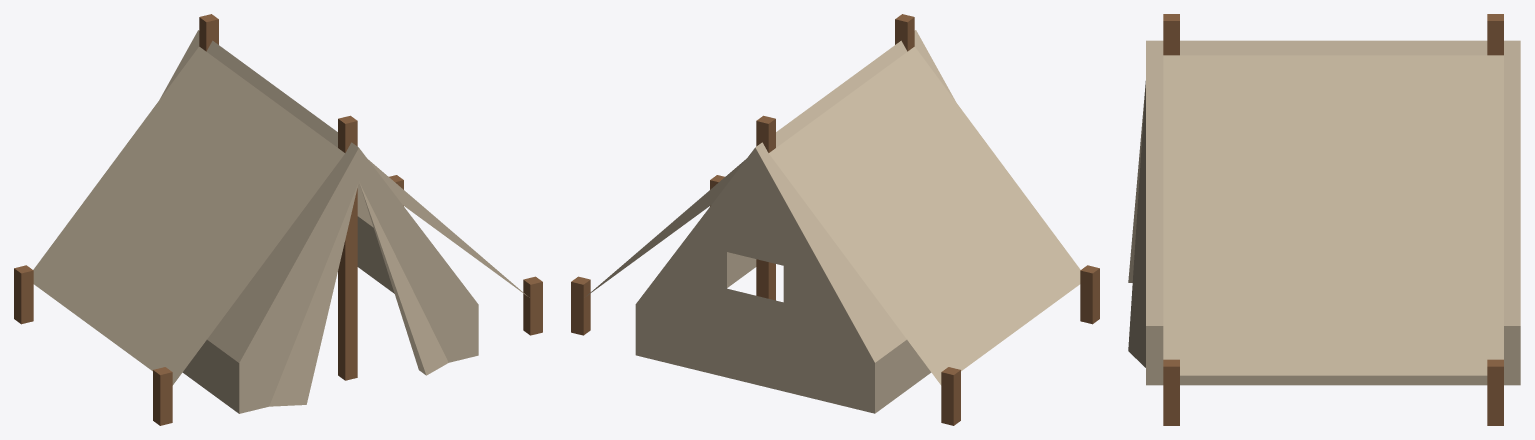
Rendered from yurt_felt_detailedOpen.obj.
3 renders of one model, left to right at view 1: azimuth 30°, elevation 25°; view 2: azimuth 150°, elevation 25°; view 3: azimuth 270°, elevation 25°, orthographic. The views are drawn at different scales.
Visible parts, largest first — view 1: tent_detailedOpen; view 2: tent_detailedOpen; view 3: tent_detailedOpen.
Part boxes in pixels (x1,y1,x2,y2): tent_detailedOpen: [14, 14, 542, 425]; tent_detailedOpen: [571, 14, 1099, 425]; tent_detailedOpen: [1128, 14, 1520, 425].
Bounding box in the file's own units: 0.8749 × 0.5611 × 0.6664.
